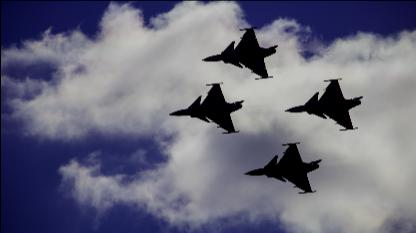JAS39: (280, 78, 364, 130), (197, 26, 279, 78), (240, 142, 322, 194), (165, 82, 246, 134)
